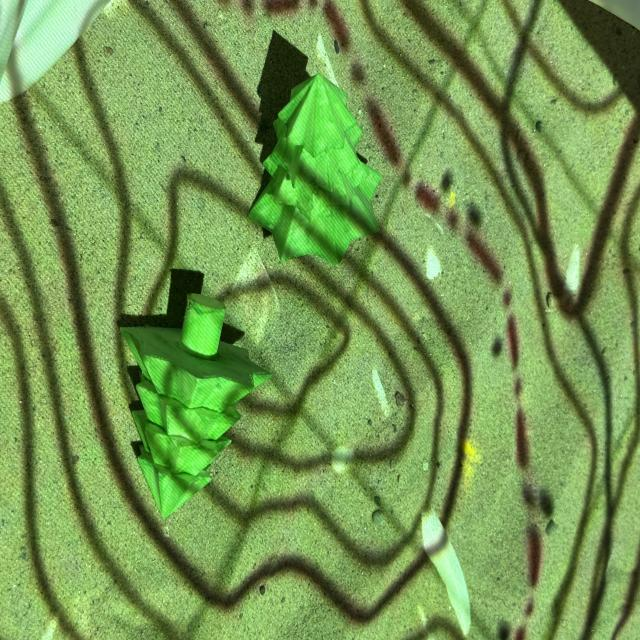tree: (118, 289, 271, 522), (246, 71, 383, 267)
